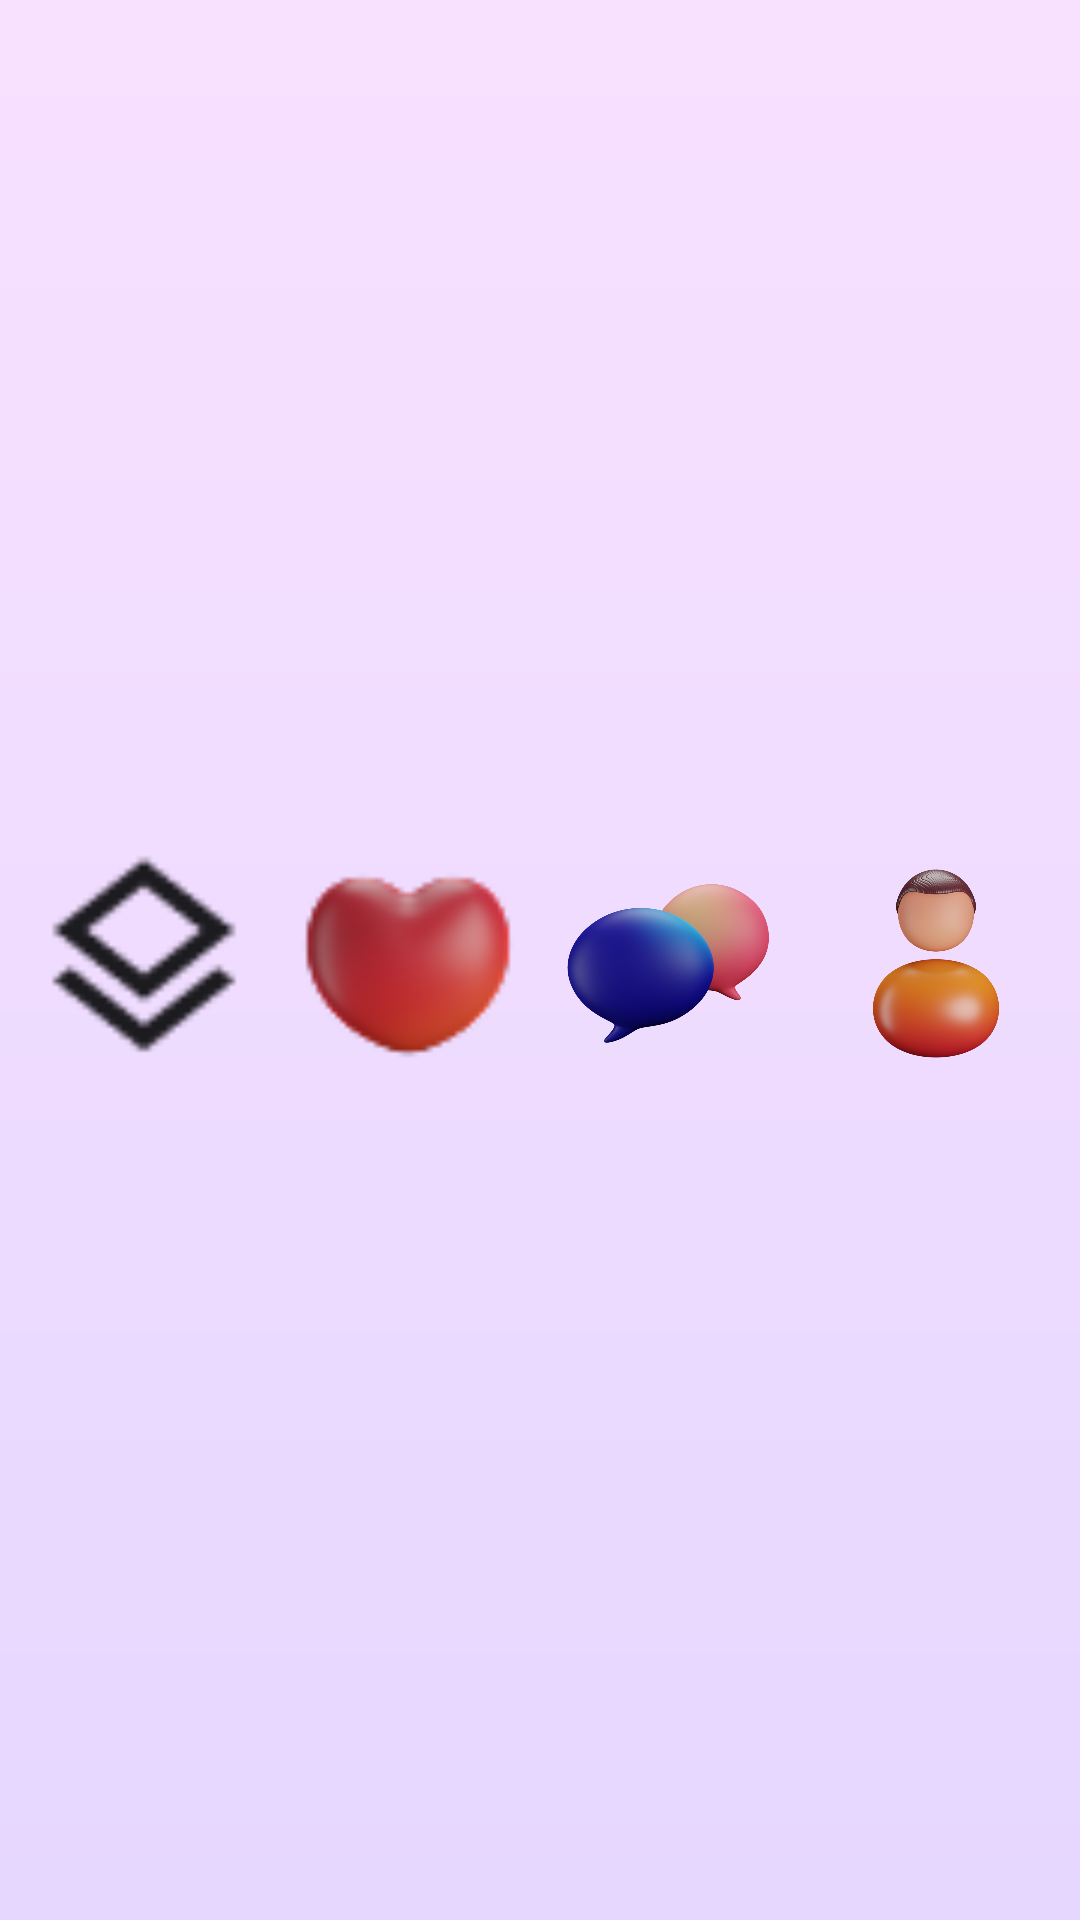

Named icons in this screenshot (1080px x 1920px) and their bounding boxes, (x1, y1, x2, y2):
chat: (567, 884, 769, 1043)
heart: (305, 877, 511, 1056)
profile: (873, 869, 999, 1058)
